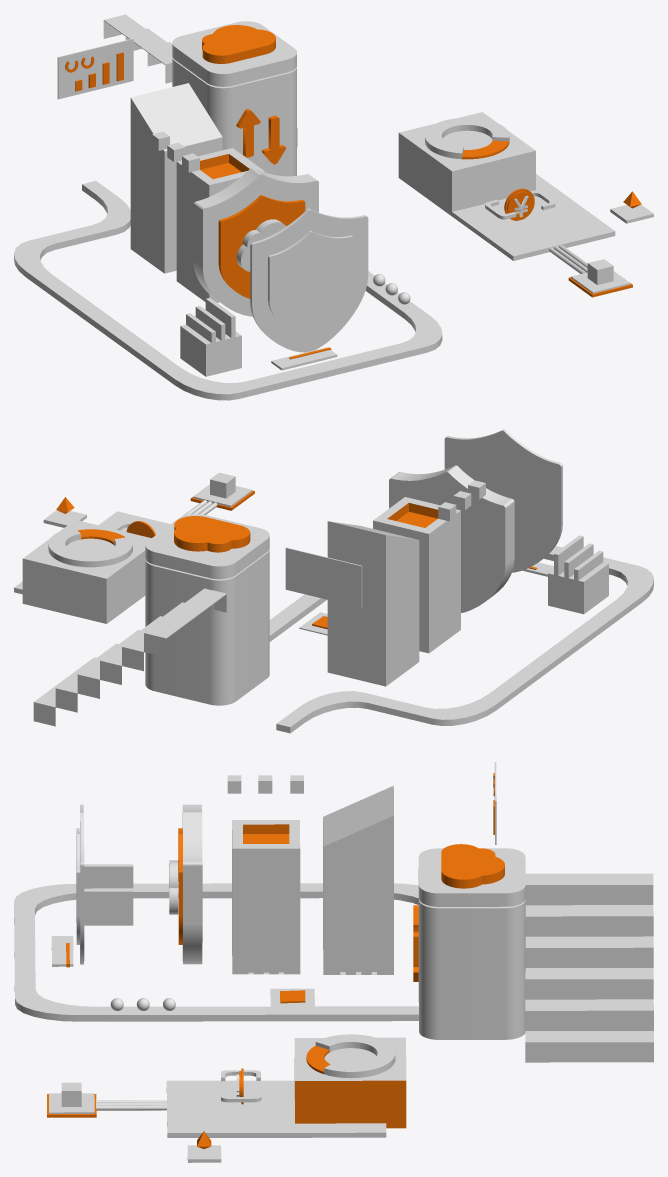
The model's file is alyunlianxi.fbx.
The picture shows the model from 3 angles, top to bottom: view 1: azimuth 30°, elevation 25°; view 2: azimuth 150°, elevation 25°; view 3: azimuth 270°, elevation 25°; orthographic projection. The views are drawn at different scales.
Visible parts, largest first — view 1: pm, lft.009, zft, Curve.003, lft, Curve.004, zhu6, Curve, lft.008, lft1, Curve.001, lft.003 (+12 smaller); view 2: lft, lft.009, pm, Curve.004, zft, Curve, lft.008, Stairs, lft1, lft.003, Curve.005, lft.013 (+7 smaller); view 3: Stairs, lft, lft.009, pm, lft.008, zhu6, zft, lft1, Curve, Curve.005, 环体.001, lft.013 (+7 smaller).
Part boxes in pixels (left/top/right/bottom): pm: left=14, top=181, right=442, bottom=400; lft.009: left=130, top=83, right=222, bottom=273; zft: left=398, top=112, right=535, bottom=216; Curve.003: left=268, top=230, right=354, bottom=335; lft: left=172, top=57, right=296, bottom=176; Curve.004: left=250, top=208, right=368, bottom=352; zhu6: left=452, top=174, right=615, bottom=260; Curve: left=193, top=167, right=318, bottom=316; lft.008: left=176, top=148, right=265, bottom=302; lft1: left=172, top=21, right=296, bottom=86; Curve.001: left=218, top=195, right=305, bottom=298; lft.003: left=57, top=38, right=133, bottom=99; lft: left=145, top=549, right=269, bottom=705; lft.009: left=327, top=521, right=419, bottom=686; pm: left=269, top=546, right=653, bottom=733; Curve.004: left=444, top=429, right=562, bottom=572; zft: left=22, top=520, right=151, bottom=623; Curve: left=389, top=465, right=514, bottom=612; lft.008: left=373, top=497, right=460, bottom=653; Stairs: left=33, top=588, right=226, bottom=726; lft1: left=145, top=514, right=269, bottom=579; lft.003: left=285, top=547, right=362, bottom=607; Curve.005: left=174, top=516, right=250, bottom=552; lft.013: left=548, top=562, right=608, bottom=614; Stairs: left=525, top=873, right=653, bottom=1062; lft: left=418, top=881, right=525, bottom=1039; lft.009: left=323, top=786, right=393, bottom=974; pm: left=14, top=883, right=418, bottom=1021; lft.008: left=232, top=820, right=300, bottom=974; zhu6: left=166, top=1080, right=386, bottom=1137; zft: left=294, top=1037, right=406, bottom=1128; lft1: left=418, top=848, right=525, bottom=906; Curve: left=182, top=804, right=202, bottom=964; Curve.005: left=441, top=844, right=504, bottom=888; 环体.001: left=315, top=1034, right=395, bottom=1078; lft.013: left=84, top=888, right=133, bottom=925.
Size of what is drawn, in the model's own units: 2413 by 705 by 2390.
